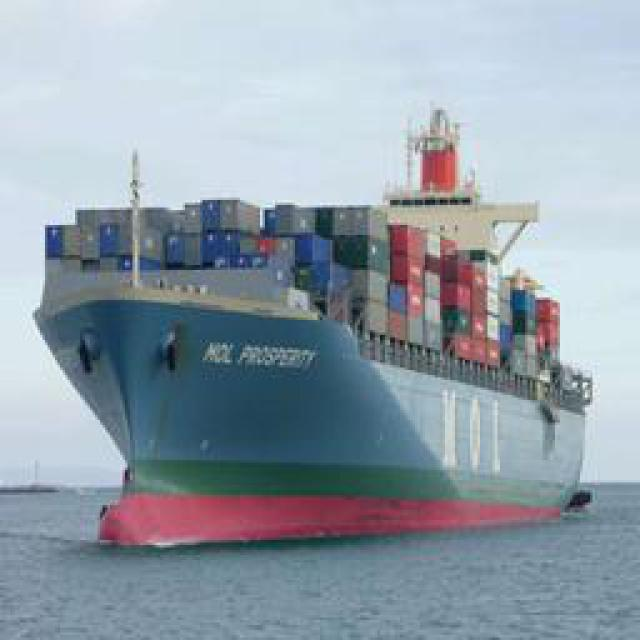Ship: (41, 152, 599, 550)
